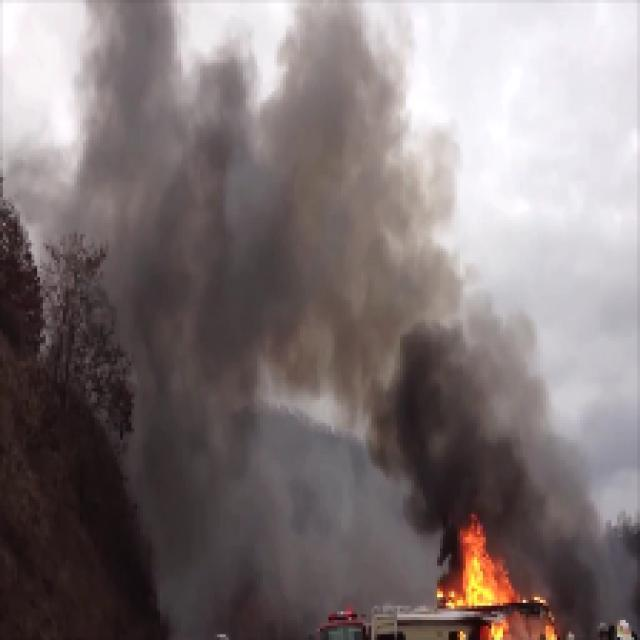Fire: (448, 522, 511, 606)
Smoke: (119, 119, 432, 348), (396, 372, 528, 497)
